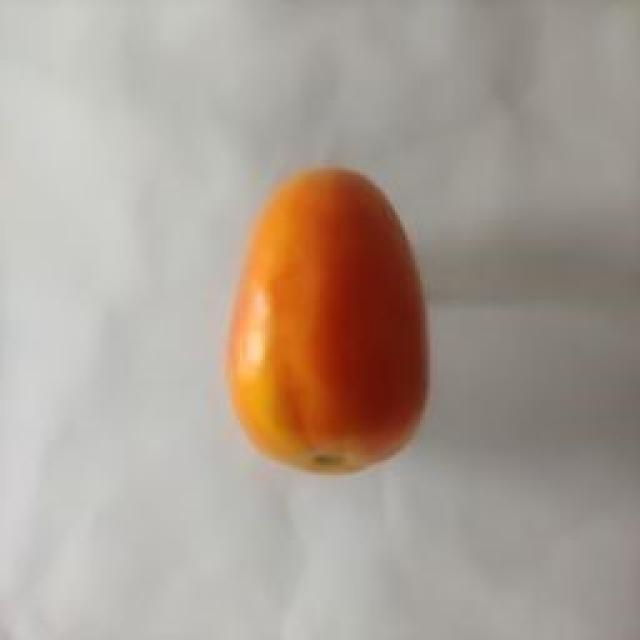Ripe: (220, 159, 434, 480)
